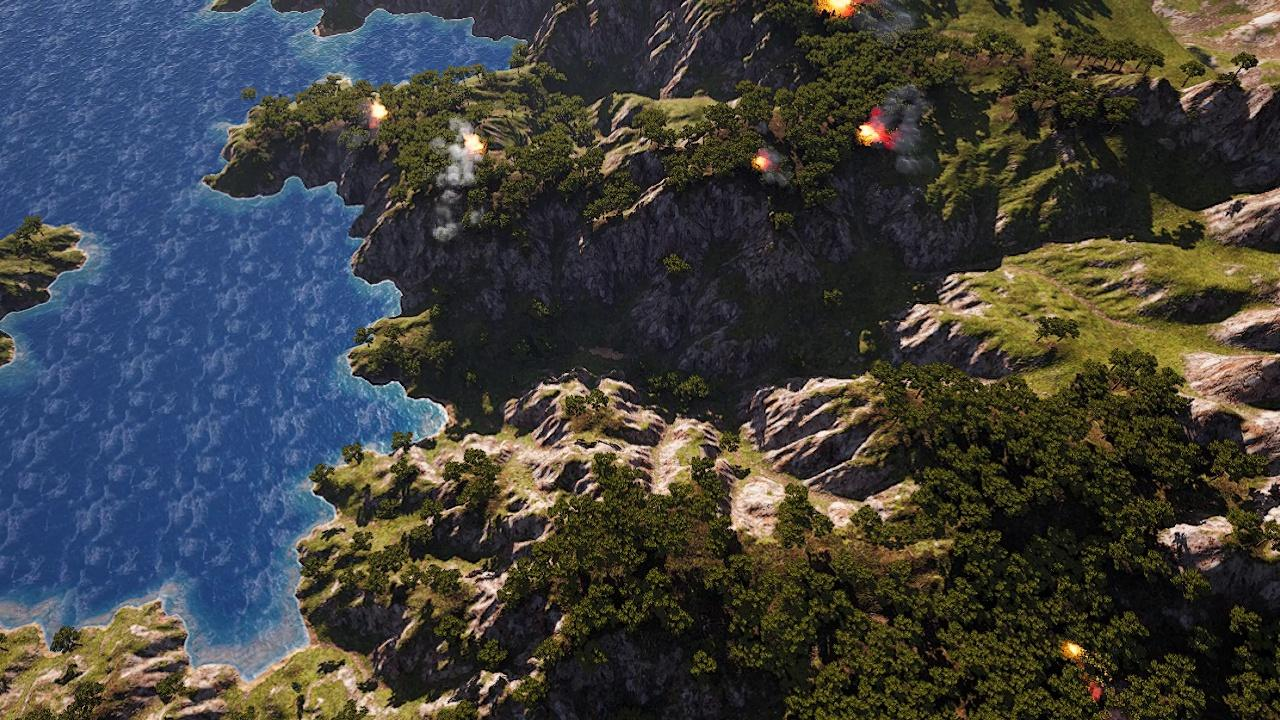fire: (856, 118, 889, 147), (809, 0, 868, 16), (753, 153, 770, 169), (1068, 643, 1085, 659)
smoke: (424, 114, 482, 244)
